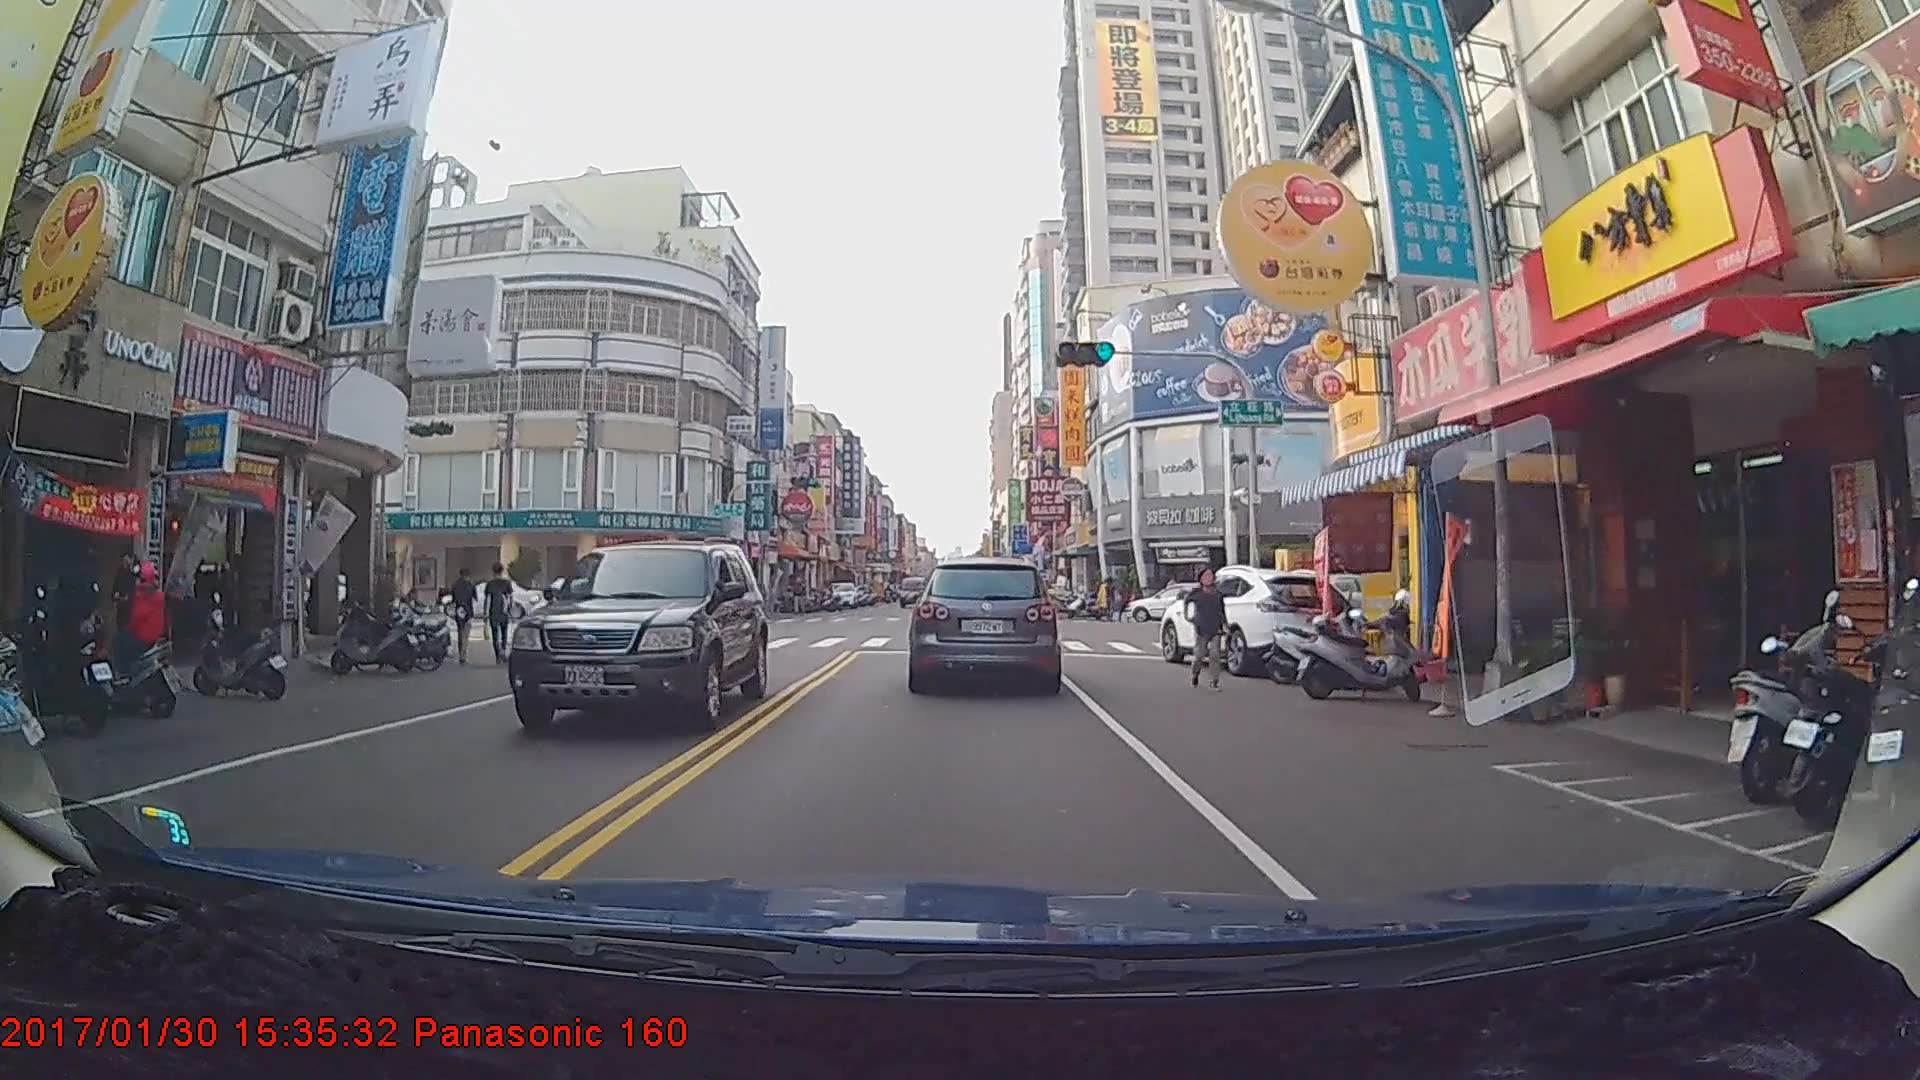pedestrian: (104, 542, 154, 682), (1187, 568, 1229, 693), (479, 561, 520, 660), (451, 569, 478, 667)
rider: (64, 561, 184, 718)
vehicle: (500, 540, 767, 735), (1157, 568, 1363, 676), (913, 555, 1057, 693), (1122, 582, 1240, 623), (825, 578, 860, 609), (897, 577, 928, 609)
